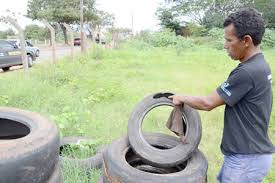tire: (128, 92, 202, 168), (103, 134, 208, 182), (1, 107, 60, 183)
